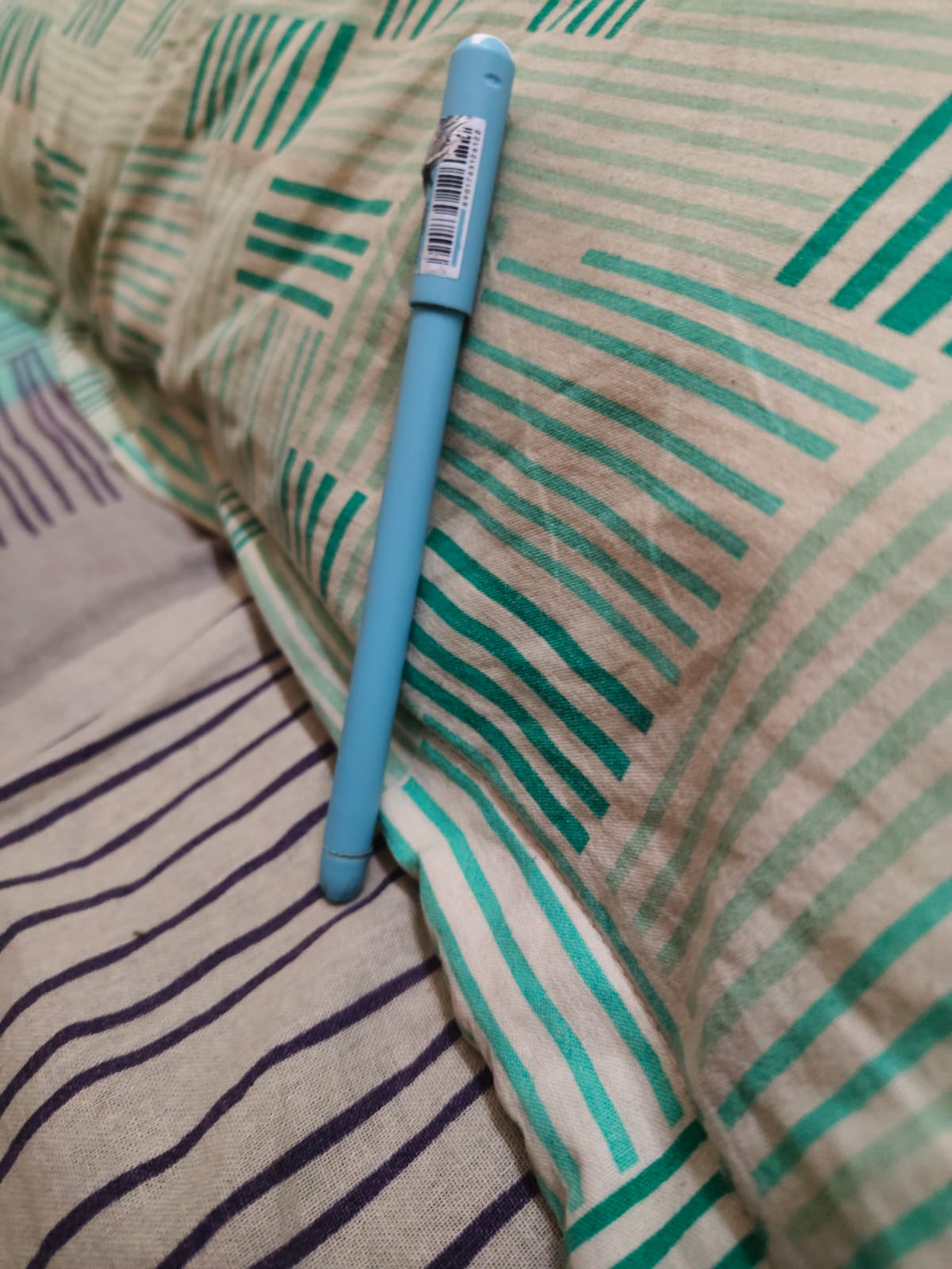pen: (295, 25, 521, 905)
